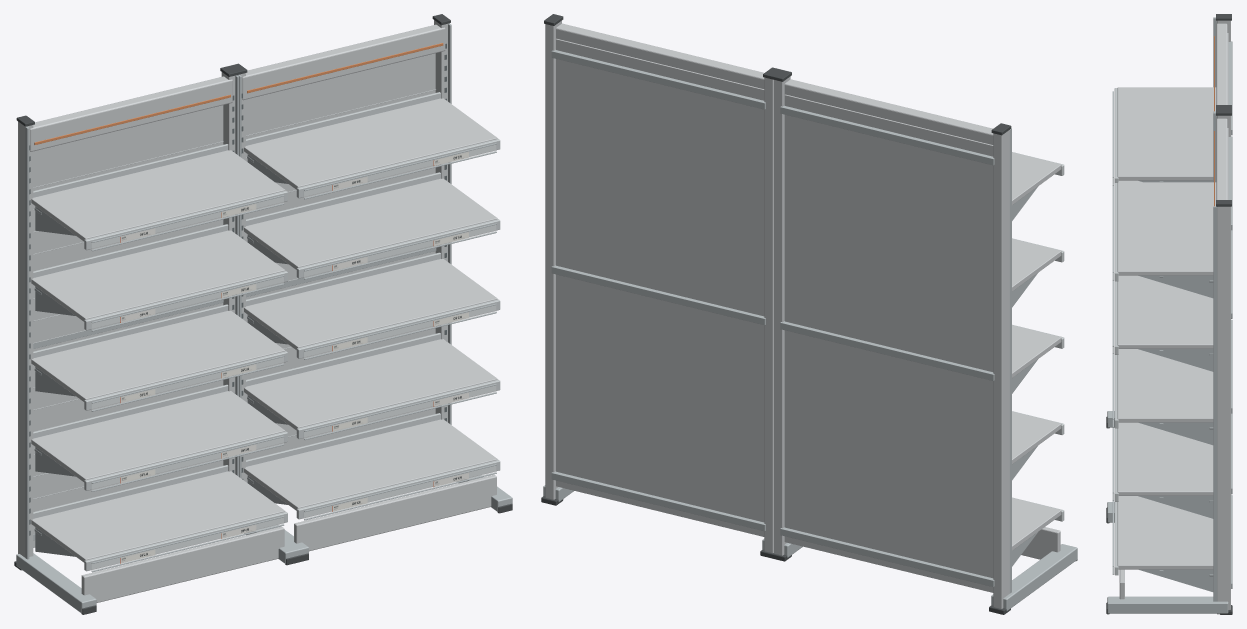
Rendered from Swiss_Supermarket_Wall_Shelf_2m_TwoBay.glb.
3 renders of one model, left to right at view 1: azimuth 30°, elevation 25°; view 2: azimuth 150°, elevation 25°; view 3: azimuth 270°, elevation 25°, orthographic. The views are drawn at different scales.
Parts seen in each view (by area): view 1: White enamel steel back panel | BAY 1, White enamel steel back panel | BAY 2, Folded 1m load tray | LEVEL 1 | BAY 1, Folded 1m load tray | LEVEL 4 | BAY 1, Folded 1m load tray | LEVEL 3 | BAY 1, Folded 1m load tray | LEVEL 5 | BAY 1, Folded 1m load tray | LEVEL 2 | BAY 1, Folded 1m load tray | LEVEL 2 | BAY 2, Folded 1m load tray | LEVEL 1 | BAY 2, Folded 1m load tray | LEVEL 5 | BAY 2, Folded 1m load tray | LEVEL 4 | BAY 2, Folded 1m load tray | LEVEL 3 | BAY 2 (+45 smaller); view 2: White enamel steel back panel | BAY 1, White enamel steel back panel | BAY 2, C-SHAPED STEEL REAR UPRIGHT | BAY 1.001, C-SHAPED STEEL REAR UPRIGHT | BAY 2, C-SHAPED STEEL REAR UPRIGHT | BAY 1, C-SHAPED STEEL REAR UPRIGHT | BAY 2.001, Top finishing header | BAY 1, Top finishing header | BAY 2, Rear galvanised cross brace | BAY 2.002, Rear galvanised cross brace | BAY 1, Rear galvanised cross brace | BAY 1.001, Rear galvanised cross brace | BAY 1.002 (+10 smaller); view 3: Folded 1m load tray | LEVEL 5 | BAY 1, Folded 1m load tray | LEVEL 5 | BAY 2, Folded 1m load tray | LEVEL 1 | BAY 2, Folded 1m load tray | LEVEL 3 | BAY 2, Folded 1m load tray | LEVEL 2 | BAY 2, Folded 1m load tray | LEVEL 4 | BAY 2, C-SHAPED STEEL REAR UPRIGHT | BAY 2, Outrigger anti-tip foot | BAY 2.001, Upright return fold | BAY 2.001, Top finishing header | BAY 2, Top finishing header | BAY 1, Pressed triangular support bracket | LEVEL 3 | BAY 2.001 (+15 smaller).
Part boxes in pixels (x1,y1,x2,y2): White enamel steel back panel | BAY 1: (33, 105, 223, 547); White enamel steel back panel | BAY 2: (246, 53, 435, 482); Folded 1m load tray | LEVEL 1 | BAY 1: (31, 471, 285, 562); Folded 1m load tray | LEVEL 4 | BAY 1: (31, 230, 285, 321); Folded 1m load tray | LEVEL 3 | BAY 1: (31, 310, 285, 401); Folded 1m load tray | LEVEL 5 | BAY 1: (31, 150, 285, 241); Folded 1m load tray | LEVEL 2 | BAY 1: (31, 391, 285, 482); Folded 1m load tray | LEVEL 2 | BAY 2: (244, 339, 497, 430); Folded 1m load tray | LEVEL 1 | BAY 2: (244, 419, 497, 510); Folded 1m load tray | LEVEL 5 | BAY 2: (244, 98, 497, 189); Folded 1m load tray | LEVEL 4 | BAY 2: (244, 178, 497, 269); Folded 1m load tray | LEVEL 3 | BAY 2: (244, 259, 497, 349); White enamel steel back panel | BAY 1: (784, 94, 993, 592); White enamel steel back panel | BAY 2: (556, 38, 764, 536); C-SHAPED STEEL REAR UPRIGHT | BAY 1.001: (993, 130, 1009, 608); C-SHAPED STEEL REAR UPRIGHT | BAY 2: (545, 20, 561, 499); C-SHAPED STEEL REAR UPRIGHT | BAY 1: (774, 76, 790, 555); C-SHAPED STEEL REAR UPRIGHT | BAY 2.001: (764, 77, 773, 553); Top finishing header | BAY 1: (784, 79, 993, 144); Top finishing header | BAY 2: (556, 23, 764, 88); Rear galvanised cross brace | BAY 2.002: (551, 49, 765, 109); Rear galvanised cross brace | BAY 1: (780, 527, 994, 586); Rear galvanised cross brace | BAY 1.001: (780, 321, 994, 380); Rear galvanised cross brace | BAY 1.002: (780, 105, 994, 165); Folded 1m load tray | LEVEL 5 | BAY 1: (1117, 87, 1216, 180); Folded 1m load tray | LEVEL 5 | BAY 2: (1117, 182, 1216, 275); Folded 1m load tray | LEVEL 1 | BAY 2: (1117, 496, 1213, 569); Folded 1m load tray | LEVEL 3 | BAY 2: (1117, 349, 1213, 422); Folded 1m load tray | LEVEL 2 | BAY 2: (1117, 422, 1213, 495); Folded 1m load tray | LEVEL 4 | BAY 2: (1117, 275, 1213, 348); C-SHAPED STEEL REAR UPRIGHT | BAY 2: (1217, 206, 1230, 614); Outrigger anti-tip foot | BAY 2.001: (1107, 596, 1228, 613); Upright return fold | BAY 2.001: (1213, 206, 1217, 601); Top finishing header | BAY 2: (1216, 117, 1227, 199); Top finishing header | BAY 1: (1216, 23, 1227, 104); Pressed triangular support bracket | LEVEL 3 | BAY 2.001: (1139, 422, 1213, 445).
Bounding box in the file's own units: 2.13 × 2.12 × 0.589.
Materials: 9 (1 with a texture image).
